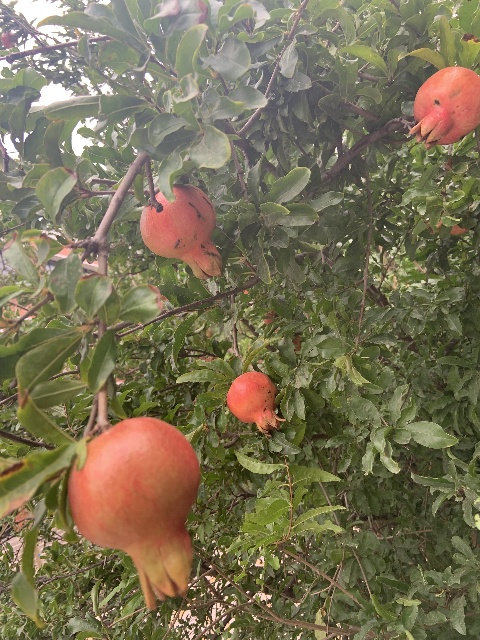ripe: (67, 417, 200, 610), (140, 185, 221, 278), (409, 67, 480, 147), (226, 371, 283, 437)
